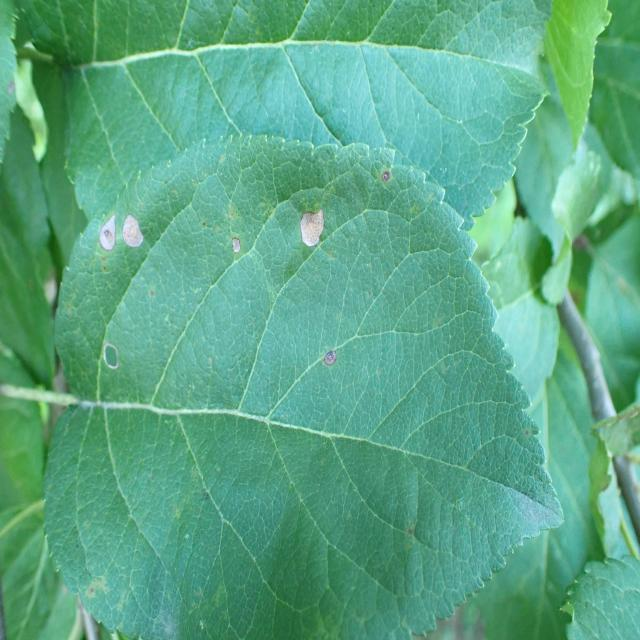Black Rot: (288, 192, 333, 268), (98, 320, 132, 390), (120, 209, 152, 261), (315, 340, 347, 388), (374, 153, 396, 210), (97, 209, 119, 262), (226, 232, 242, 272)
